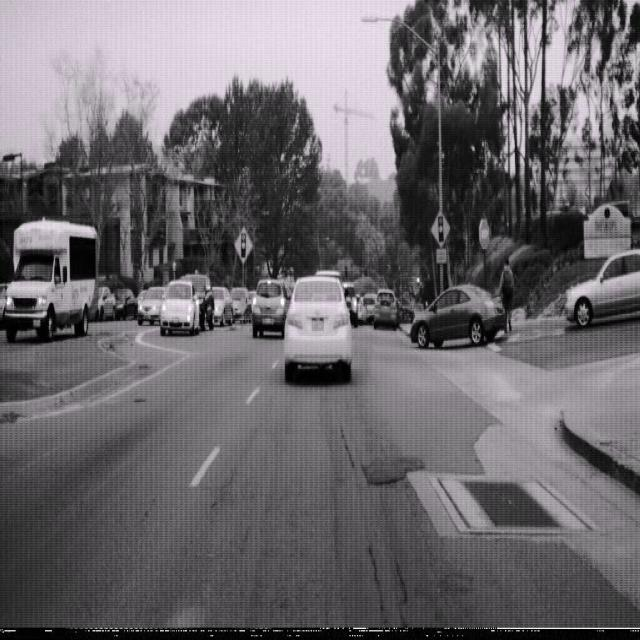stop_sign: (478, 217, 490, 250)
